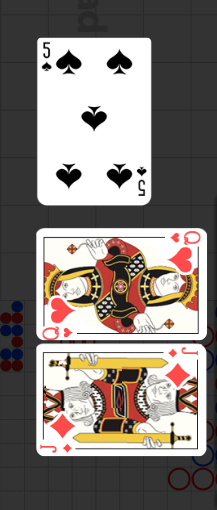5S: (135, 164, 148, 198), (41, 41, 54, 74)
9D: (39, 443, 73, 455)
